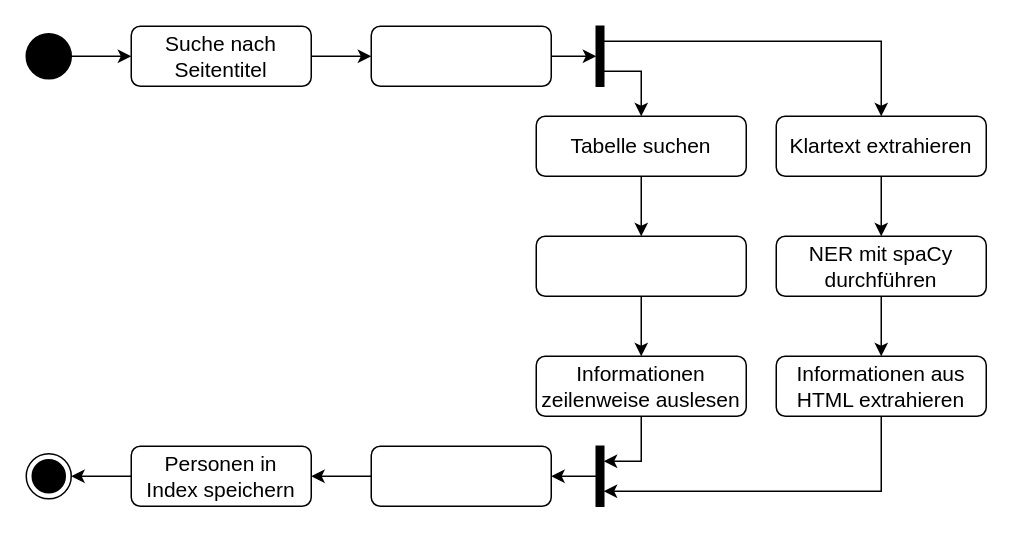
Some shapes in this 1013 by 533 pixel diagram are drawn without their labels. The shapes that lost their labels are listed below. From the top down, each one's centre as x and y in pixels, then its label:
At point 460,55: "Seite parsen".
At point 640,265: "Header analysieren".
At point 460,475: "Duplikate zusammenführen".
